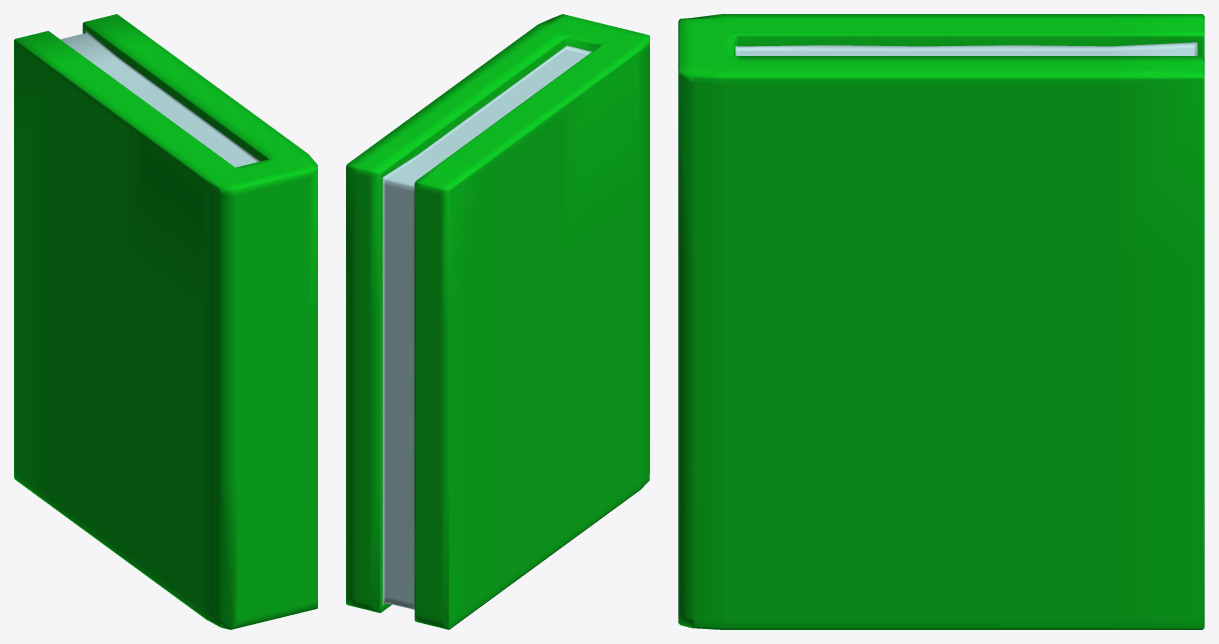
Rendered from SM_Book_Green.fbx.
3 views of the same model, side by side, from view 1: azimuth 30°, elevation 25°; view 2: azimuth 150°, elevation 25°; view 3: azimuth 270°, elevation 25° (orthographic). The views are drawn at different scales.
Parts seen in each view (by area): view 1: SM_Book_Green; view 2: SM_Book_Green; view 3: SM_Book_Green.
Part boxes in pixels (left/top/right/bottom): SM_Book_Green: left=14, top=14, right=317, bottom=629; SM_Book_Green: left=346, top=14, right=649, bottom=629; SM_Book_Green: left=678, top=14, right=1204, bottom=629.
Size of the model in its own units: 48.99 by 200 by 173.
